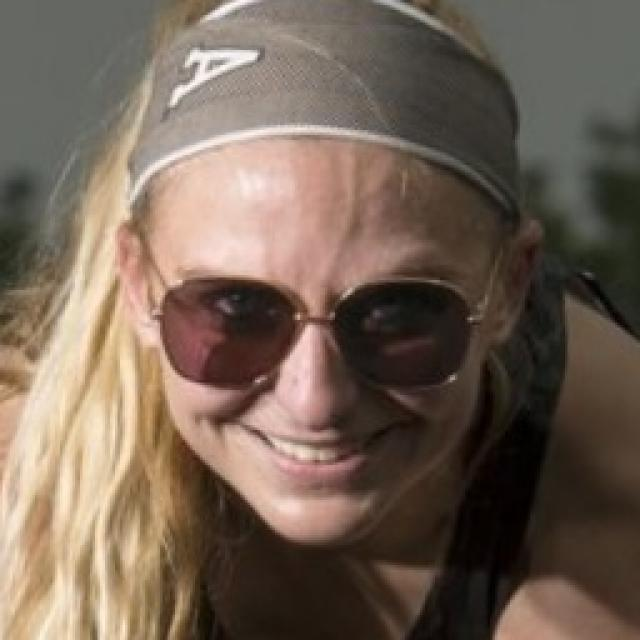glasses: (138, 265, 494, 417)
